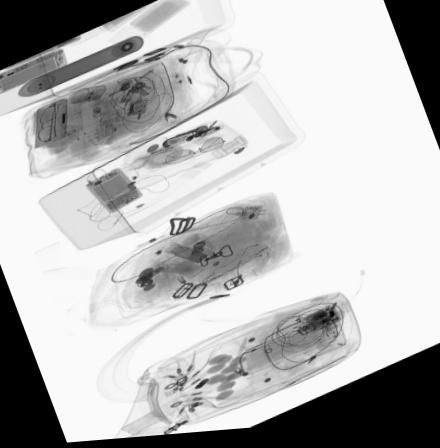Lighter: (82, 93, 94, 114)
